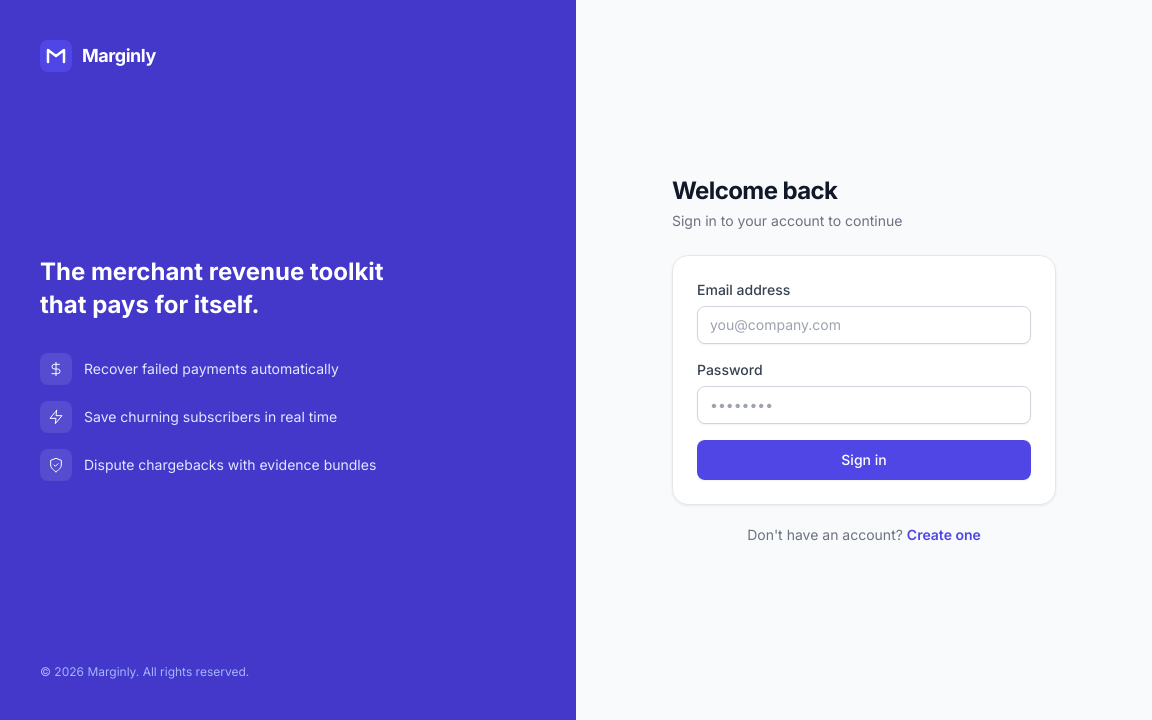
Test: LoginPage › shows validation error on submit with invalid email
Click the button "Sign in".
click(864, 460)  # box [697, 440, 1031, 480]
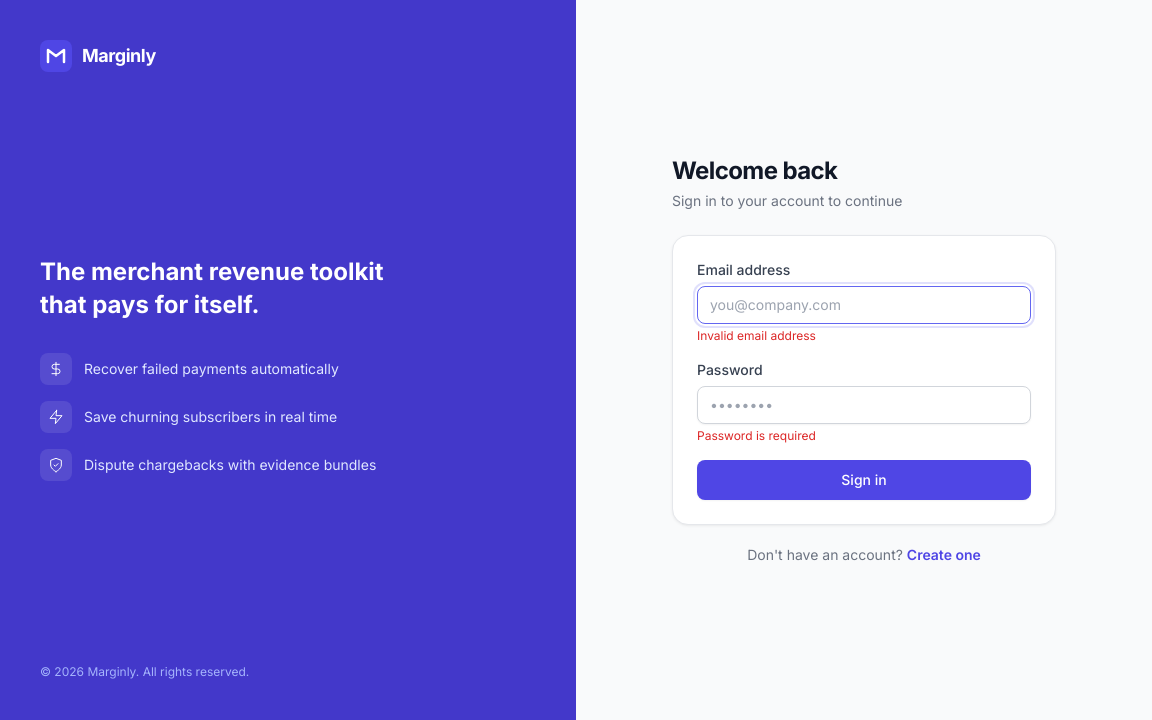
Check: the text "Invalid email address" is shown, box [697, 328, 816, 343]
